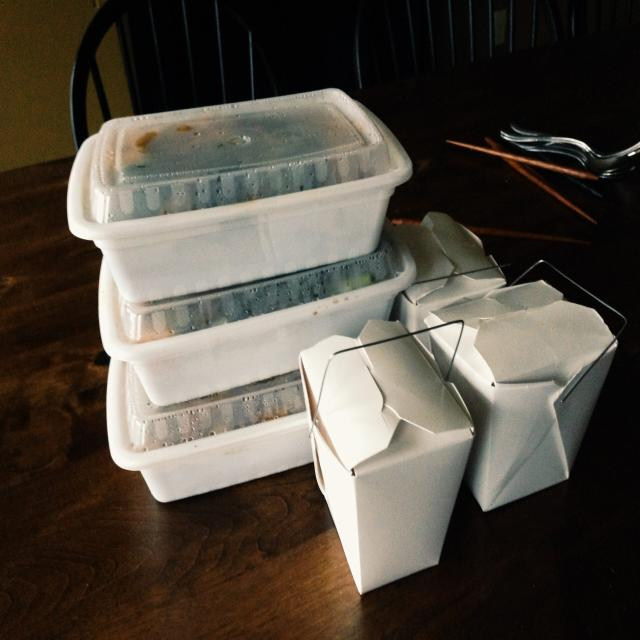plastic_box: (44, 65, 423, 302), (94, 349, 312, 518)
